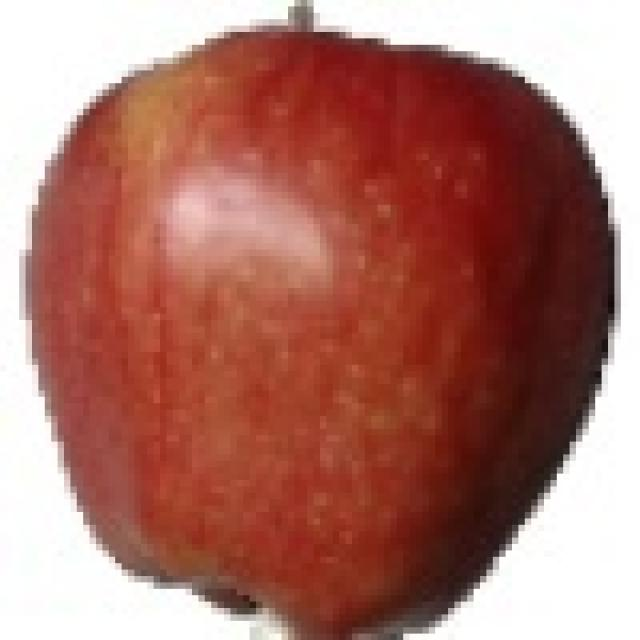apple: (18, 20, 598, 623)
